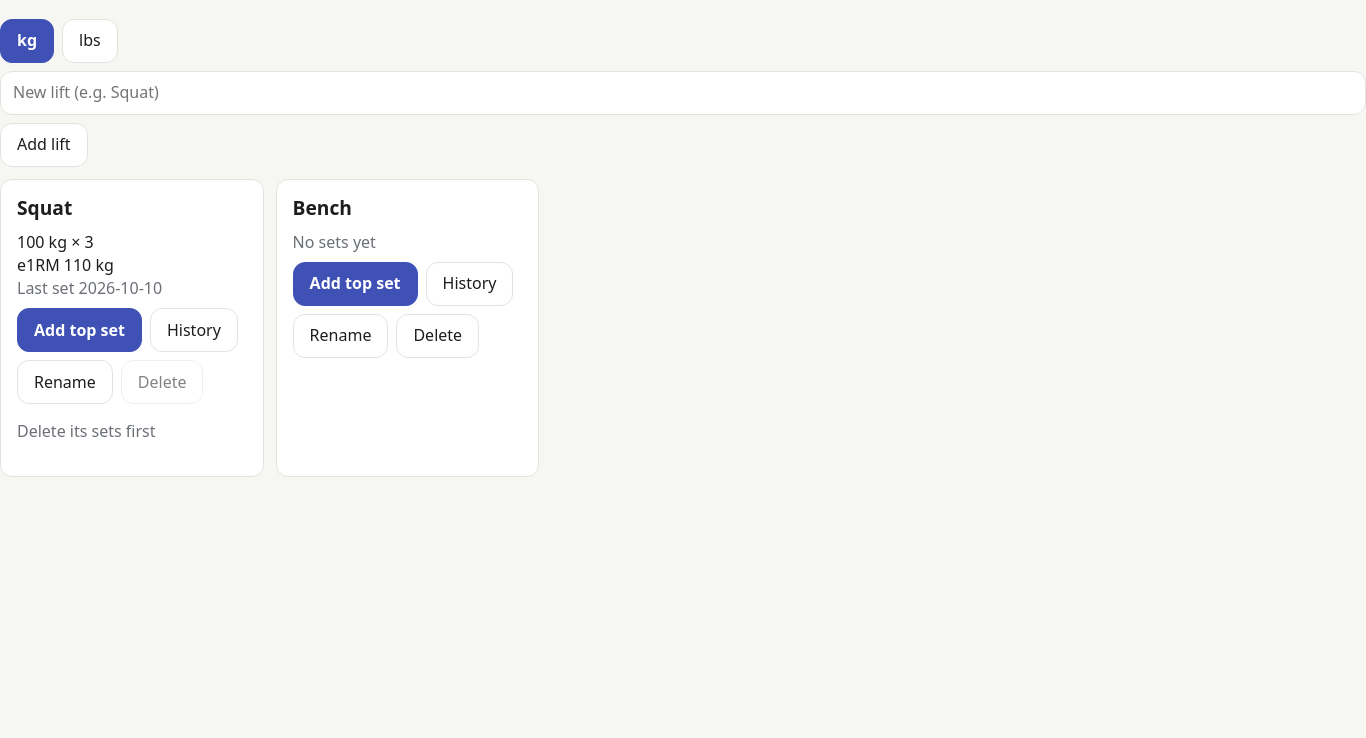
Test: selecting a lift shows newest-first history and an accessible chart
Click the button "History" below "Last set": (194, 330) top-left (150, 308), bottom-right (238, 352)
(page scrolled)
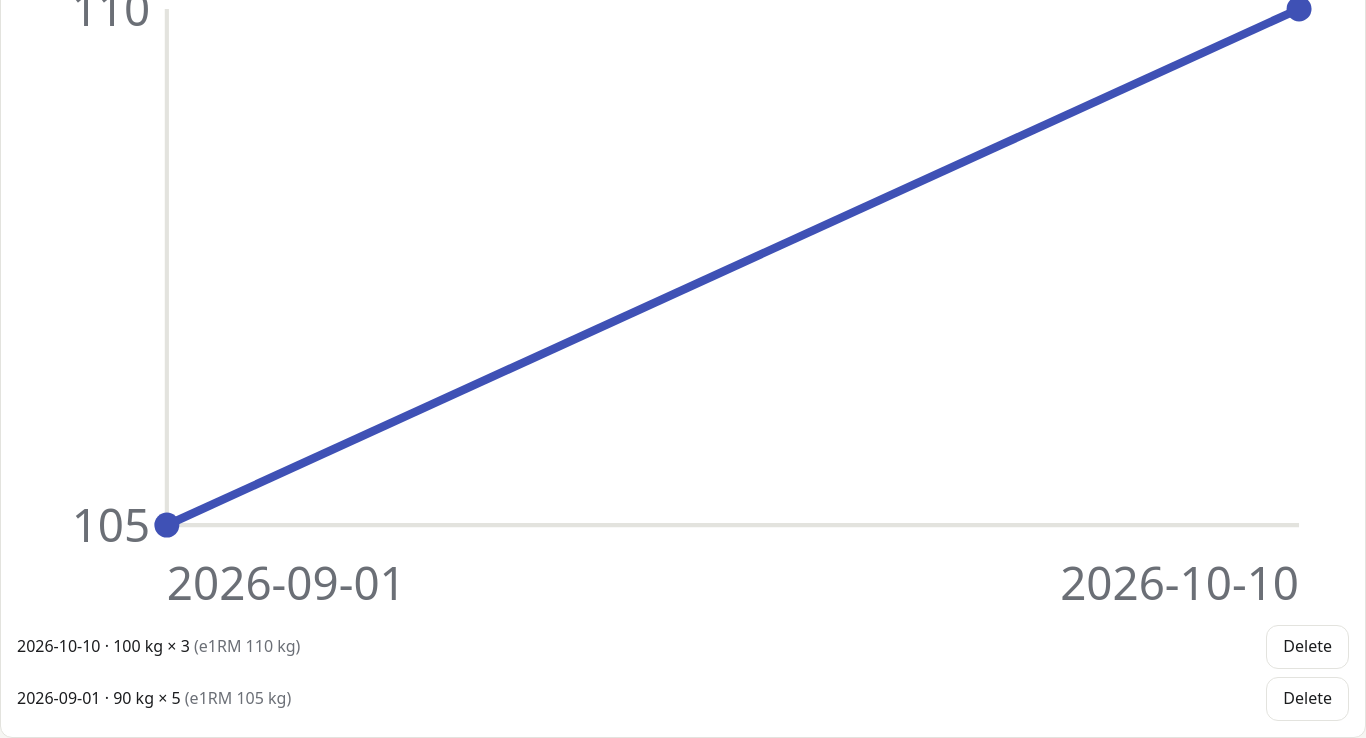
Result: the list item "2026-10-10 · 100 kg × 3 (e1RM 110 kg) Delete" is shown at top-left (17, 625), bottom-right (1349, 669)
Result: the list item "2026-09-01 · 90 kg × 5 (e1RM 105 kg) Delete" is shown at top-left (17, 677), bottom-right (1349, 721)
